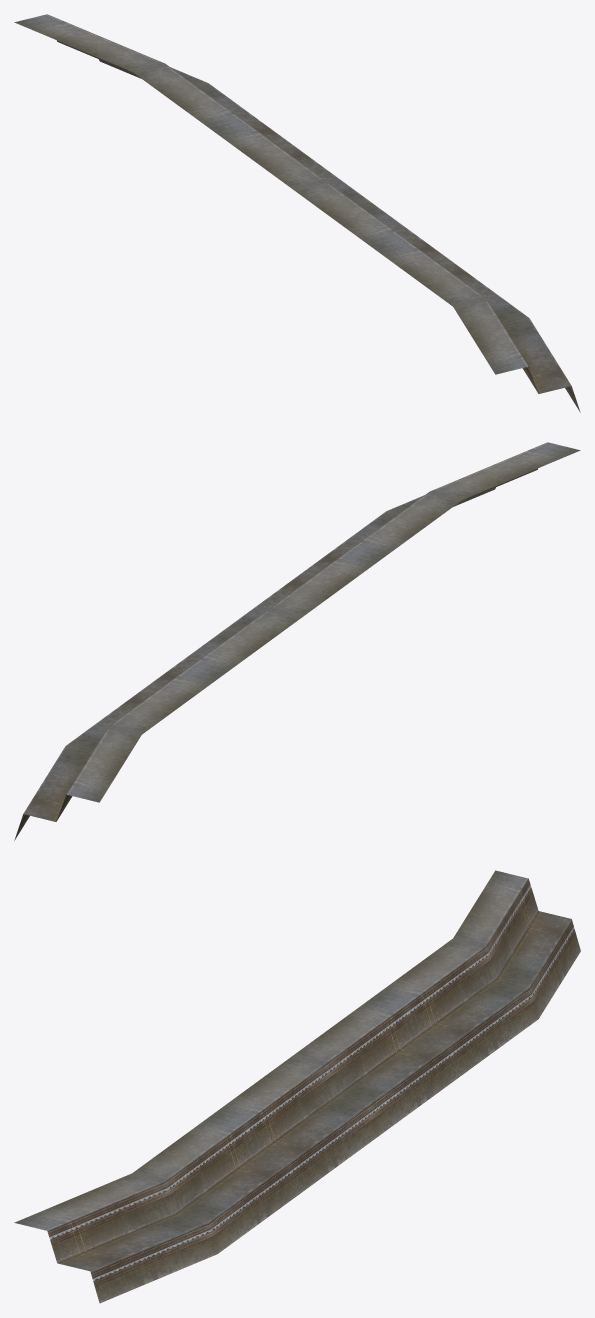
The model's file is dcfx2_louti_05.FBX.
The picture shows the model from 3 angles, top to bottom: view 1: azimuth 30°, elevation 25°; view 2: azimuth 150°, elevation 25°; view 3: azimuth 330°, elevation 25°; orthographic projection.
Parts seen in each view (by area): view 1: dcfx2_louti_05; view 2: dcfx2_louti_05; view 3: dcfx2_louti_05.
Part boxes in pixels (<box>): dcfx2_louti_05: <box>14,14,580,412</box>; dcfx2_louti_05: <box>14,442,580,840</box>; dcfx2_louti_05: <box>14,870,580,1303</box>.
Bounding box in the file's own units: 189 × 87.66 × 1277.
